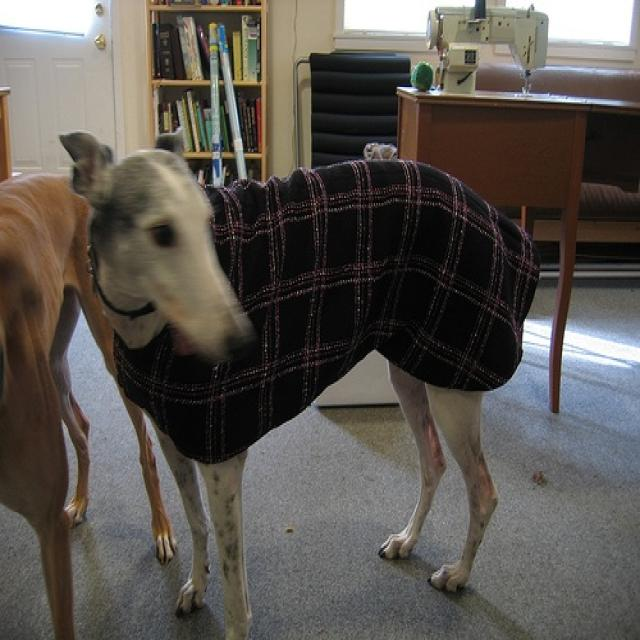dog: (62, 128, 496, 637), (0, 167, 172, 638)
